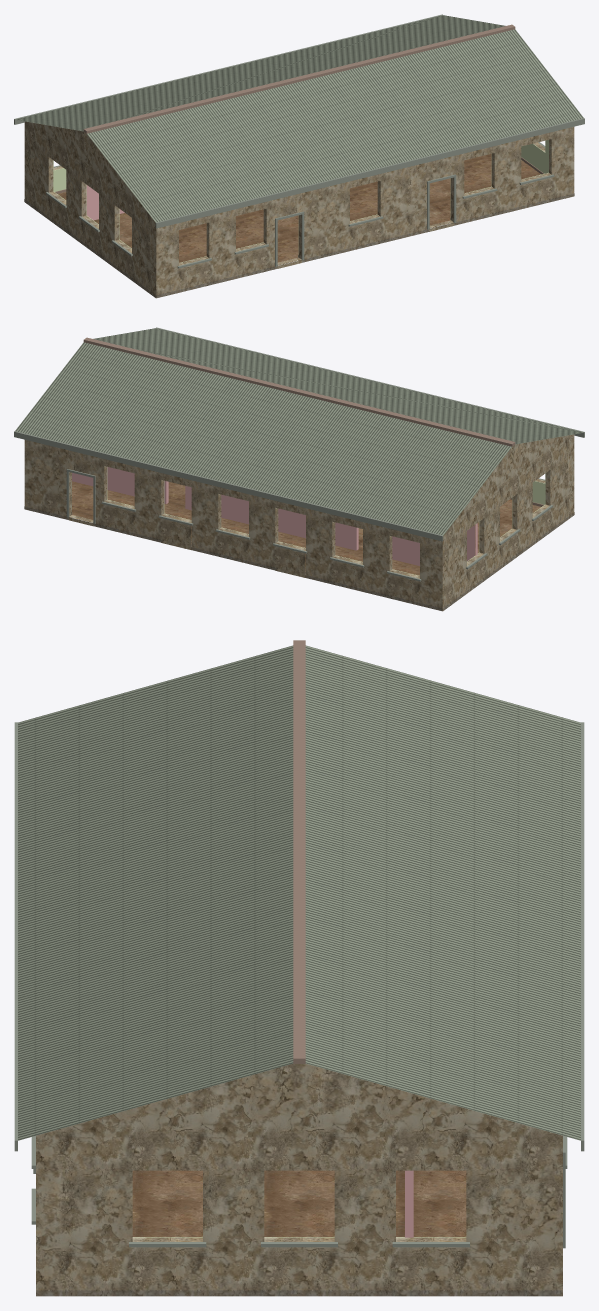
Rendered from mess-hall.panes-v1.lod0.glb.
The picture shows the model from 3 angles, top to bottom: view 1: azimuth 30°, elevation 25°; view 2: azimuth 150°, elevation 25°; view 3: azimuth 270°, elevation 25°; orthographic projection. The views are drawn at different scales.
Parts seen in each view (by area): view 1: mess-hall; view 2: mess-hall; view 3: mess-hall.
Part boxes in pixels (<box>): mess-hall: <box>14,14,584,298</box>; mess-hall: <box>14,327,584,611</box>; mess-hall: <box>14,640,584,1296</box>.
Bounding box in the file's own units: 22.54 × 6.1 × 12.98.
4 materials, 3 textured.
